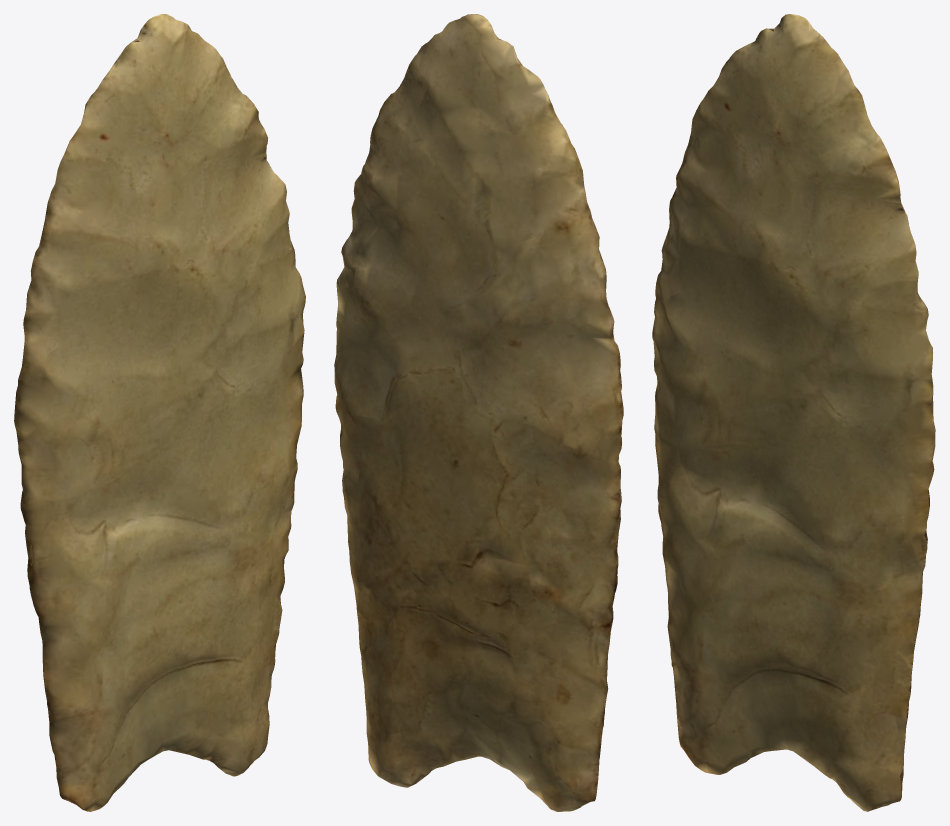
File: thumb.glb
The picture shows the model from 3 angles, left to right: view 1: azimuth 30°, elevation 25°; view 2: azimuth 150°, elevation 25°; view 3: azimuth 330°, elevation 25°; orthographic projection. The views are drawn at different scales.
Parts seen in each view (by area): view 1: Object_2; view 2: Object_2; view 3: Object_2.
Part boxes in pixels (x1=…): Object_2: x1=14, y1=14, x2=305, y2=811; Object_2: x1=334, y1=14, x2=623, y2=811; Object_2: x1=652, y1=14, x2=935, y2=811.
Bounding box in the file's own units: 0.0325 × 0.0846 × 0.00721.
1 material, 1 textured.
